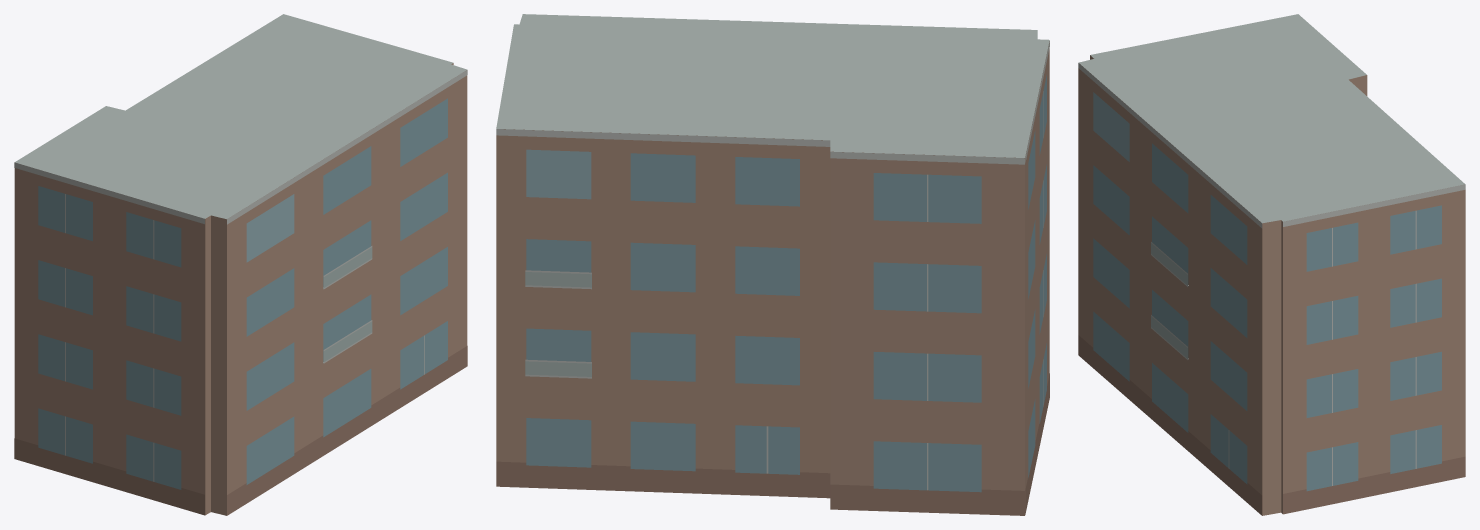
File: survey-upis-32641461.glb
3 views of the same model, side by side, from view 1: azimuth 30°, elevation 25°; view 2: azimuth 150°, elevation 25°; view 3: azimuth 270°, elevation 25° (orthographic). The views are drawn at different scales.
Visible parts, largest first — view 1: survey-upis-32641461.tmp; view 2: survey-upis-32641461.tmp; view 3: survey-upis-32641461.tmp.
Part boxes in pixels (x1,y1,x2,y2): survey-upis-32641461.tmp: (14,14,467,515); survey-upis-32641461.tmp: (496,14,1049,515); survey-upis-32641461.tmp: (1078,14,1465,515).
Size of the model in its own units: 20.25 by 13.2 by 15.83.
